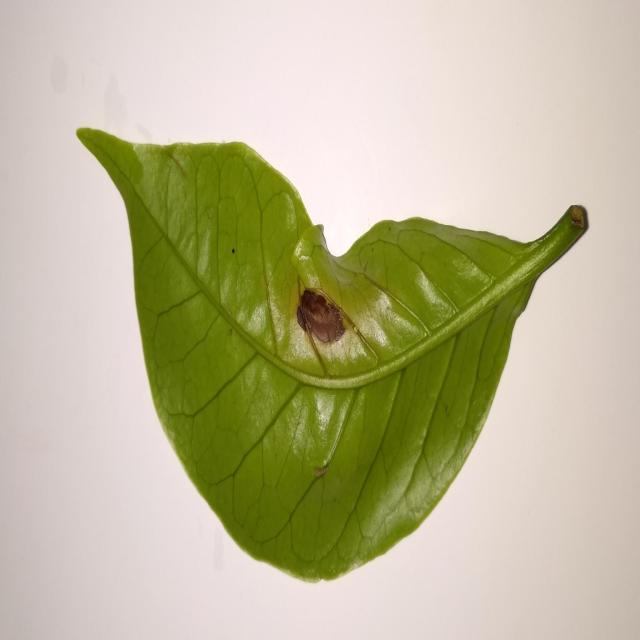Enfermedad-Antracnosis: (75, 128, 589, 586)
